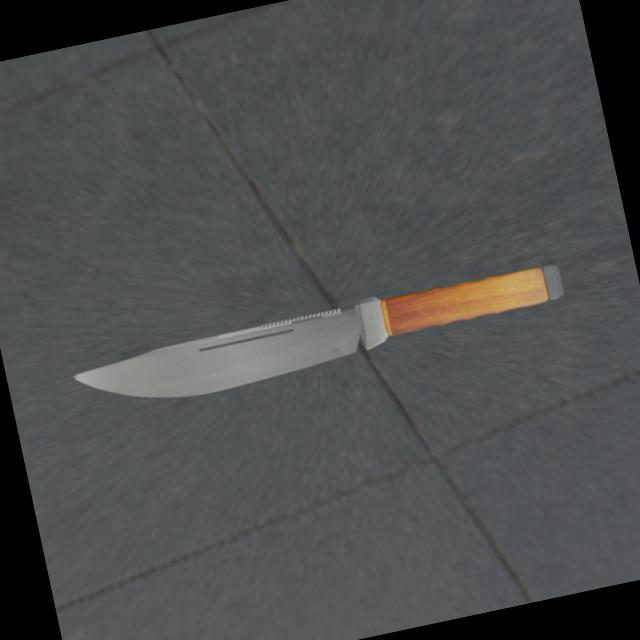knife: (351, 258, 558, 346)
